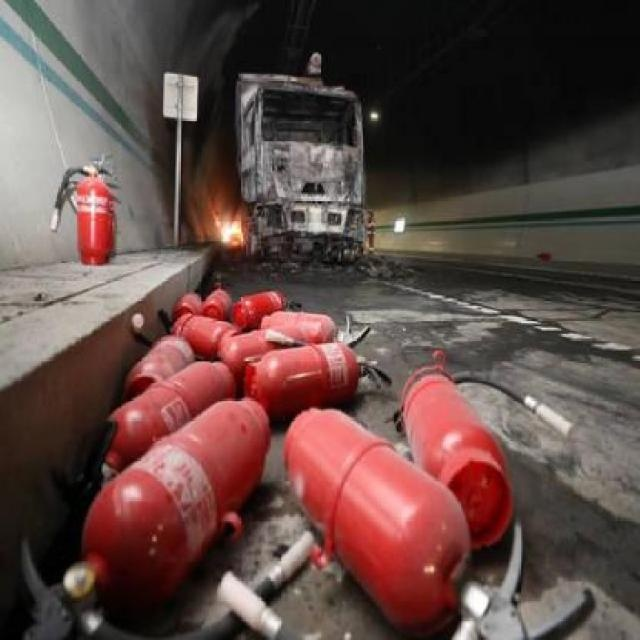fire extinguisher: (283, 406, 595, 640), (19, 395, 315, 640), (393, 348, 576, 552), (54, 361, 235, 519), (243, 331, 394, 415), (54, 157, 117, 266), (126, 313, 203, 402), (224, 323, 324, 380), (157, 308, 238, 360), (260, 311, 371, 346), (231, 291, 304, 332), (199, 288, 233, 320), (171, 293, 204, 324)
